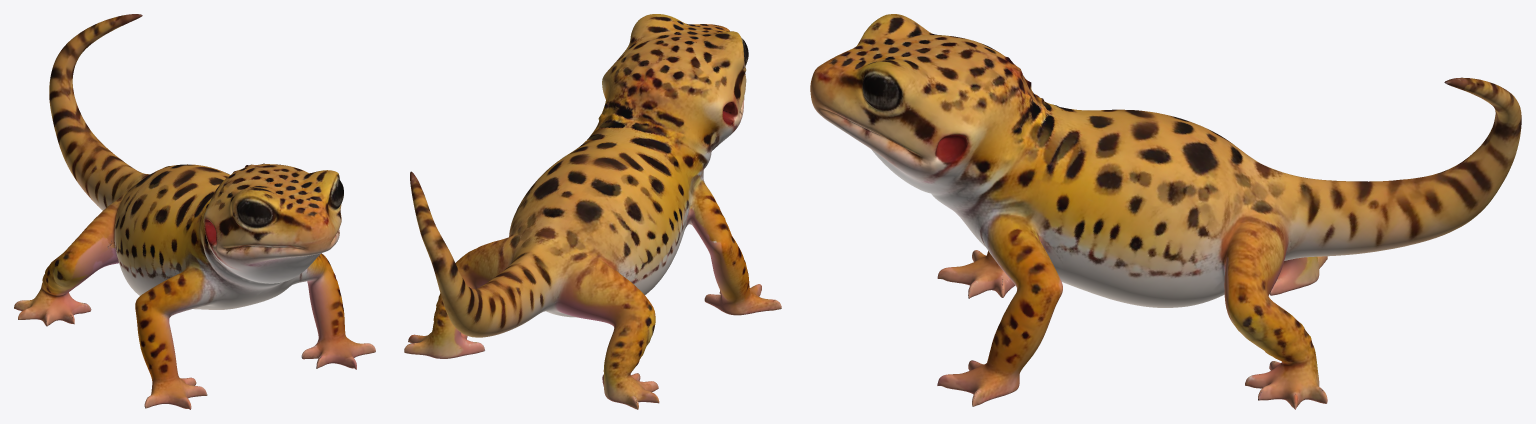
Rendered from vet_animal_gecko.glb.
The picture shows the model from 3 angles, left to right: view 1: azimuth 30°, elevation 25°; view 2: azimuth 150°, elevation 25°; view 3: azimuth 270°, elevation 25°; orthographic projection. The views are drawn at different scales.
Visible parts, largest first — view 1: model; view 2: model; view 3: model.
Part boxes in pixels (box(x1,y1,x2,y2)): model: box(14, 14, 375, 409); model: box(404, 14, 781, 409); model: box(810, 14, 1521, 409).
Size of the model in its own units: 0.9805 by 0.8648 by 1.9.
1 material, 1 textured.
